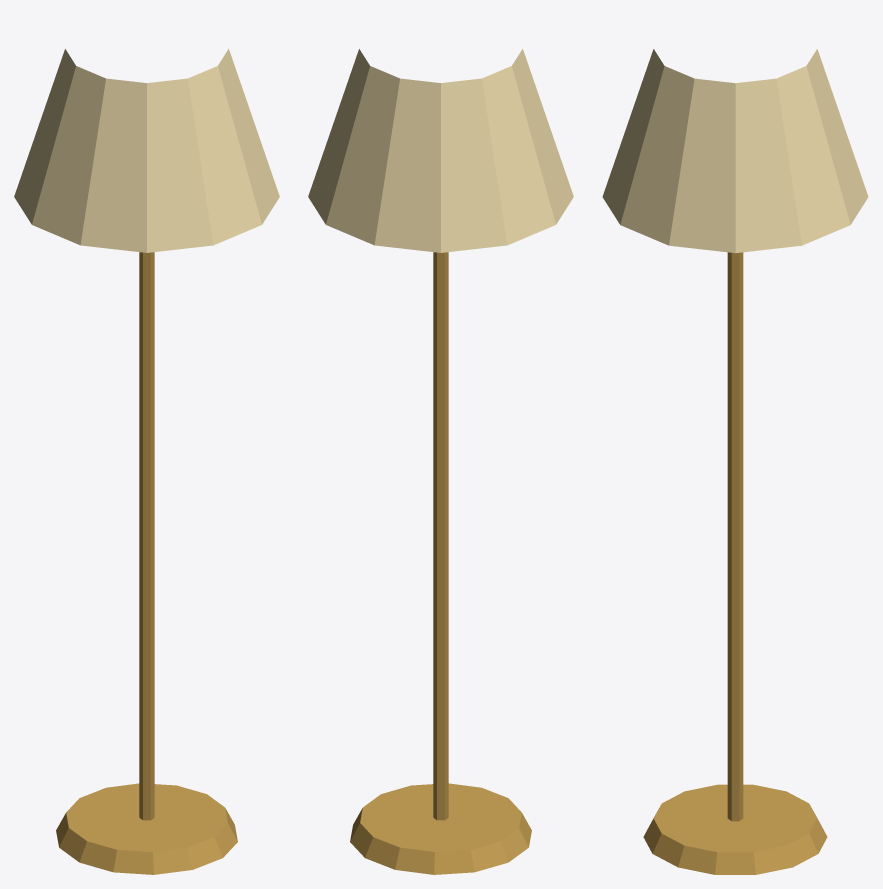
The model's file is showroom_lamp.glb.
3 renders of one model, left to right at view 1: azimuth 30°, elevation 25°; view 2: azimuth 150°, elevation 25°; view 3: azimuth 270°, elevation 25°, orthographic.
Parts seen in each view (by area): view 1: shade_lamp_cream, foot_lamp_brass, pole_lamp_brass; view 2: shade_lamp_cream, foot_lamp_brass, pole_lamp_brass; view 3: shade_lamp_cream, foot_lamp_brass, pole_lamp_brass.
Part boxes in pixels (<box>): shade_lamp_cream: <box>14,49,279,252</box>; foot_lamp_brass: <box>56,783,237,874</box>; pole_lamp_brass: <box>139,252,154,820</box>; shade_lamp_cream: <box>308,49,573,252</box>; foot_lamp_brass: <box>350,783,531,874</box>; pole_lamp_brass: <box>433,252,448,820</box>; shade_lamp_cream: <box>602,49,868,253</box>; foot_lamp_brass: <box>643,784,827,874</box>; pole_lamp_brass: <box>727,252,743,821</box>.
Size of the model in its own units: 0.52 by 1.7 by 0.52.
